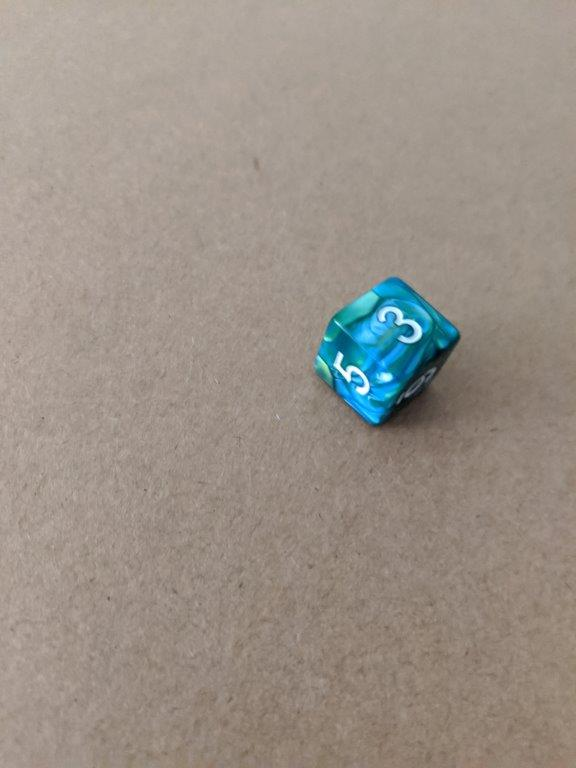d6-3: (307, 273, 463, 426)
